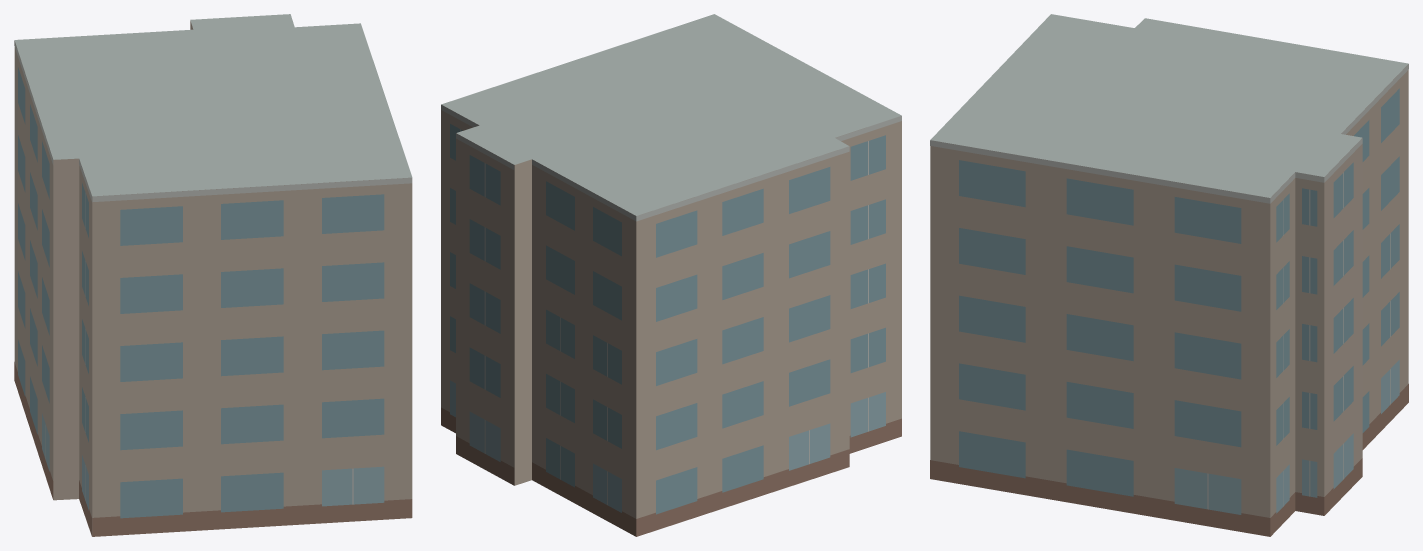
The model's file is survey-upis-32533635.glb.
The picture shows the model from 3 angles, left to right: view 1: azimuth 30°, elevation 25°; view 2: azimuth 150°, elevation 25°; view 3: azimuth 270°, elevation 25°; orthographic projection. The views are drawn at different scales.
Parts seen in each view (by area): view 1: survey-upis-32533635.tmp; view 2: survey-upis-32533635.tmp; view 3: survey-upis-32533635.tmp.
Part boxes in pixels (x1,y1,x2,y2): survey-upis-32533635.tmp: (14,14,412,536); survey-upis-32533635.tmp: (441,14,901,536); survey-upis-32533635.tmp: (930,14,1408,536).
Bounding box in the file's own units: 16.78 × 14.4 × 18.44.
